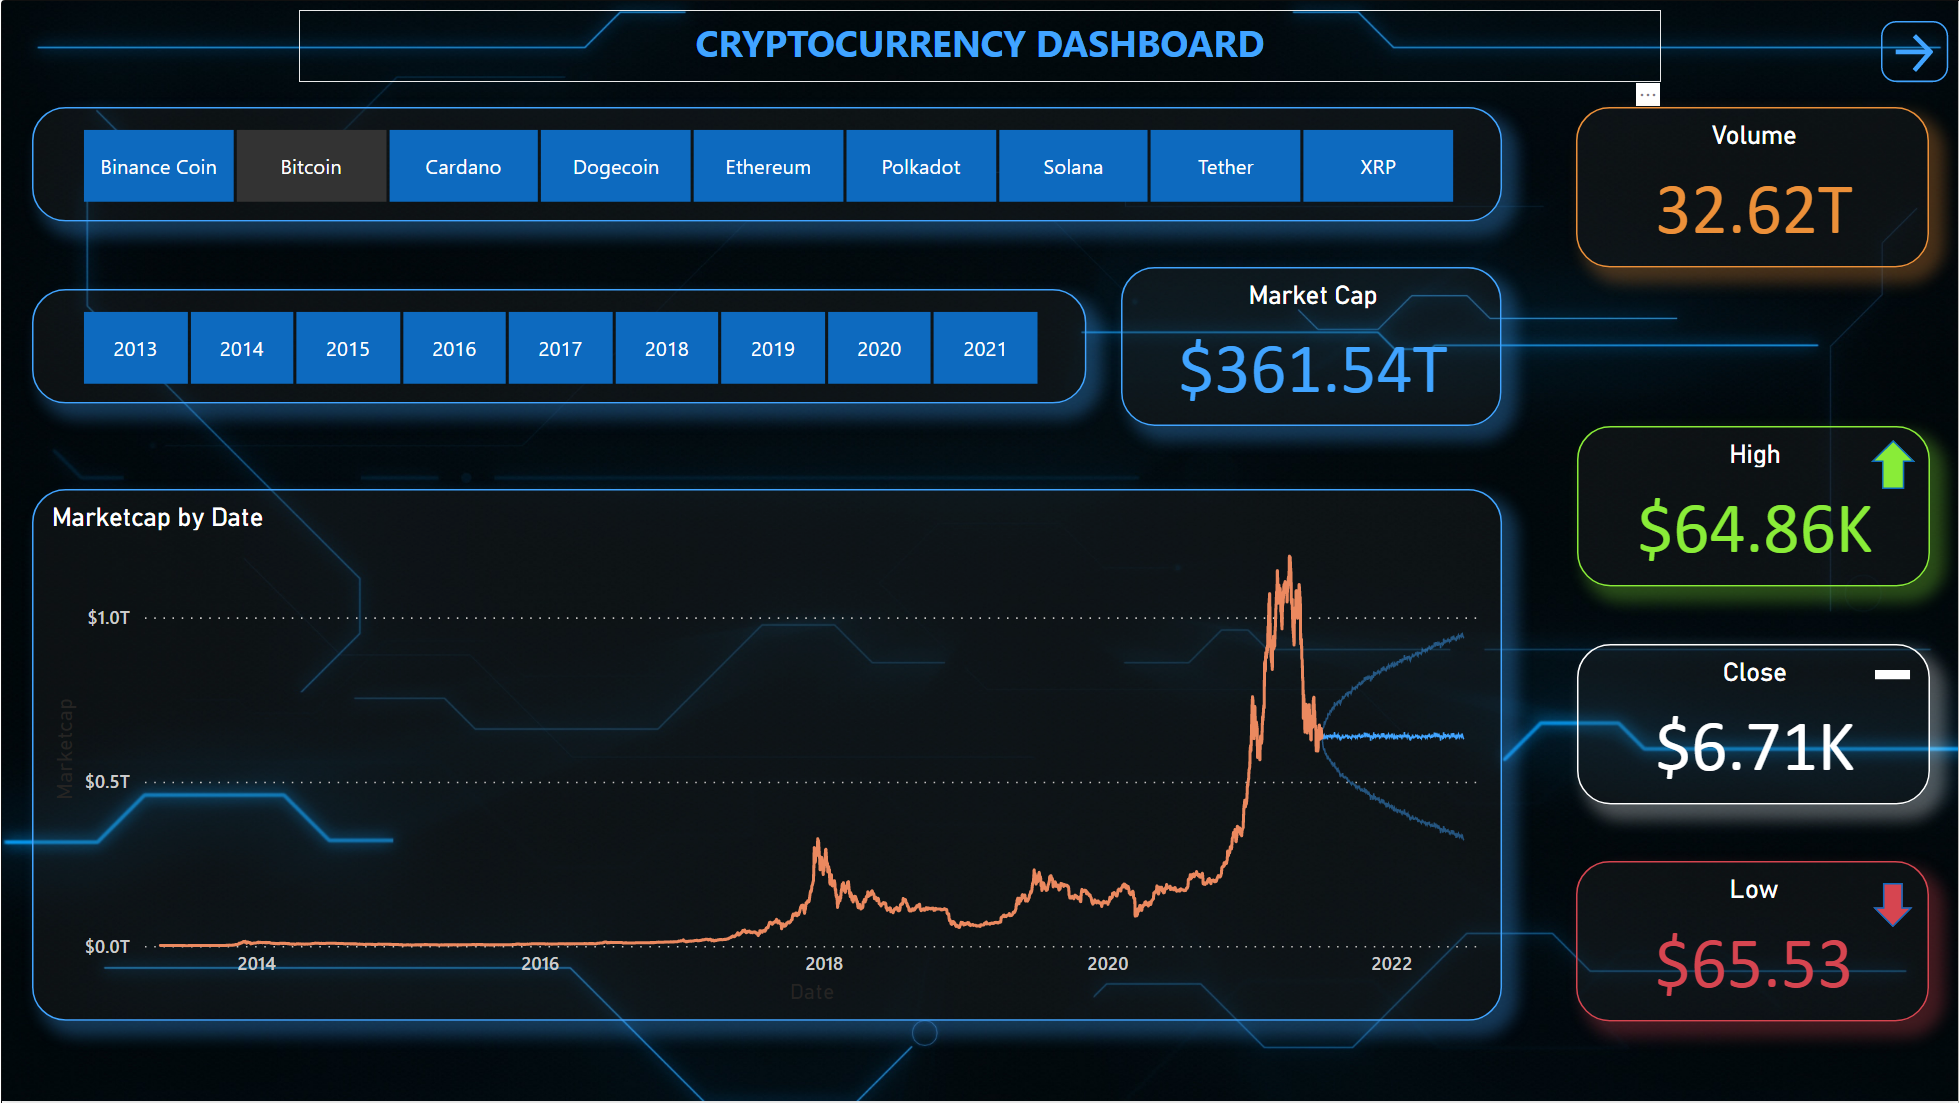

Layout of this report page (visuals, bound fields, positions):
{"tool":"powerbi","page":{"name":"Dashboard Page 1","canvas":[1280,720],"ordinal":0},"visuals":[{"type":"slicer","fields":{"Values":["Data.Name"]},"box":[19.6,69.4,962,74.6],"z":0},{"type":"slicer","fields":{"Values":["Data.Year"]},"box":[19.6,188.5,689.7,75.3],"z":1000},{"type":"lineChart","fields":{"Y":["Sum(Data.Marketcap)"],"Category":["Data.Date"]},"box":[19.6,319.3,962,348.1],"z":2000},{"type":"actionButton","box":[1229.6,13.1,44.5,39.9],"z":3000},{"type":"textbox","box":[194.4,5.9,891.3,47.1],"z":4000},{"type":"card","title":"Market Cap","fields":{"Values":["Sum(Data.Marketcap)"]},"box":[732.3,174.1,249.3,104],"z":5000},{"type":"card","title":"Volume","fields":{"Values":["Sum(Data.Volume)"]},"box":[1030,69.4,231,104.7],"z":6000},{"type":"card","title":"Close","fields":{"Values":["Avg(Data.Close)"]},"box":[1030.7,420.8,231,104.7],"z":7000},{"type":"card","title":"Low","fields":{"Values":["Min(Data.Low)"]},"box":[1030,562.8,231,104.7],"z":8000},{"type":"card","title":"High","fields":{"Values":["Max(Data.High)"]},"box":[1030.7,278.1,231,104.7],"z":9000},{"type":"shape","box":[1223.1,287.3,28.8,32.1],"z":10000},{"type":"shape","box":[1224.4,577.2,26.2,28.8],"z":11000},{"type":"shape","box":[1225.7,420.8,22.9,39.9],"z":12000}]}

Visuals, with their boxes in screenshot pixels (x1, y1, x2, y2), scaled from the page's 1280x720 canvas onto the 1959x1103 screenshot:
slicer - Data.Name: x1=30 y1=106 x2=1502 y2=221
slicer - Data.Year: x1=30 y1=289 x2=1086 y2=404
lineChart - Sum(Data.Marketcap) x Data.Date: x1=30 y1=489 x2=1502 y2=1022
actionButton: x1=1882 y1=20 x2=1950 y2=81
textbox: x1=298 y1=9 x2=1662 y2=81
"Market Cap" card: x1=1121 y1=267 x2=1502 y2=426
"Volume" card: x1=1576 y1=106 x2=1930 y2=267
"Close" card: x1=1577 y1=645 x2=1931 y2=805
"Low" card: x1=1576 y1=862 x2=1930 y2=1023
"High" card: x1=1577 y1=426 x2=1931 y2=586
shape: x1=1872 y1=440 x2=1916 y2=489
shape: x1=1874 y1=884 x2=1914 y2=928
shape: x1=1876 y1=645 x2=1911 y2=706
